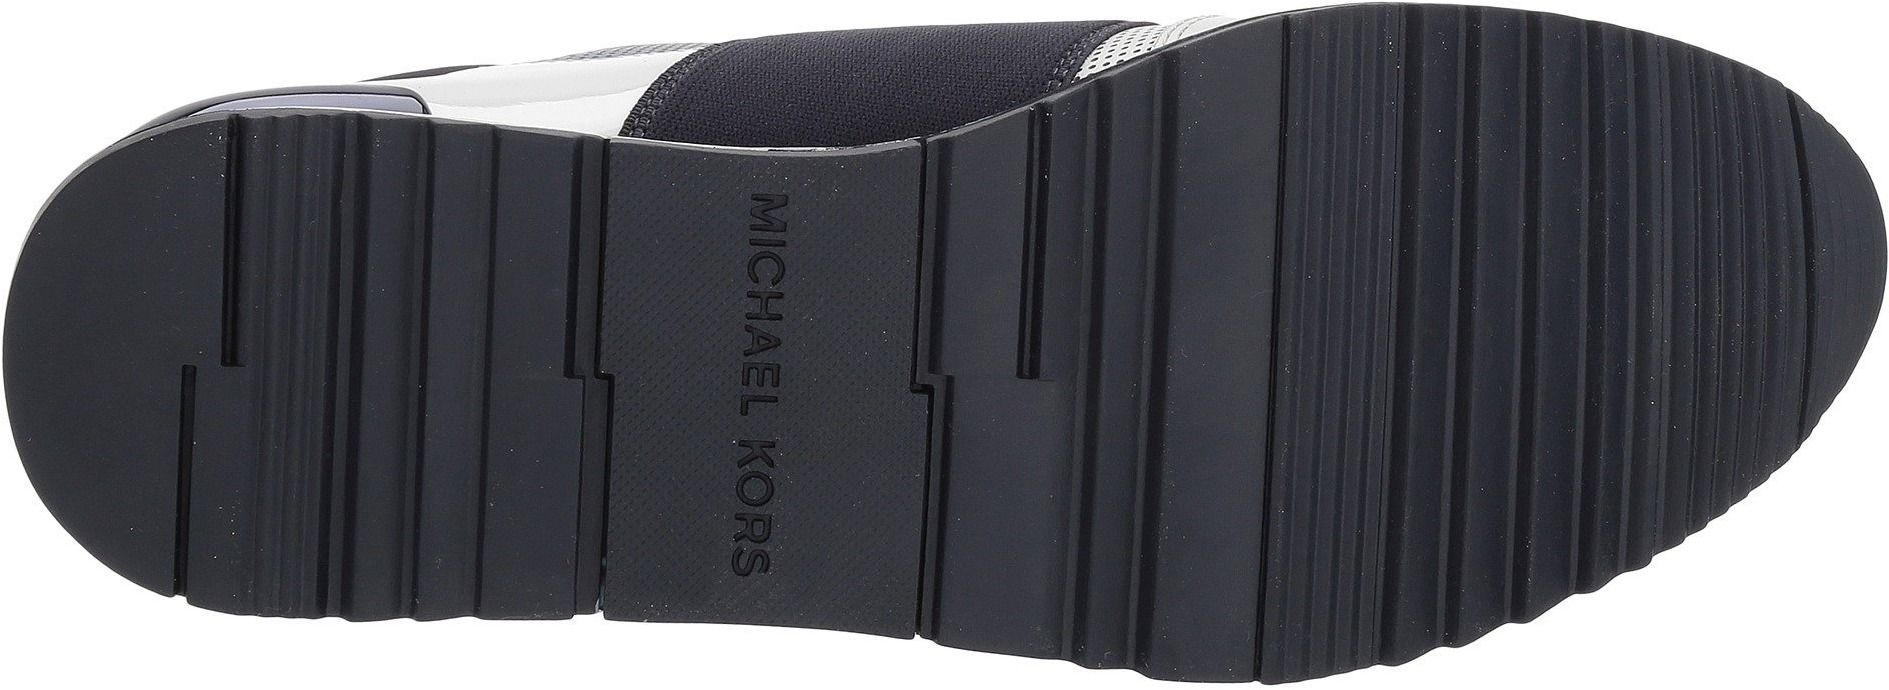circle: (676, 175, 894, 600)
line: (1313, 182, 1697, 493), (157, 238, 486, 548)
text: (676, 175, 894, 600)
